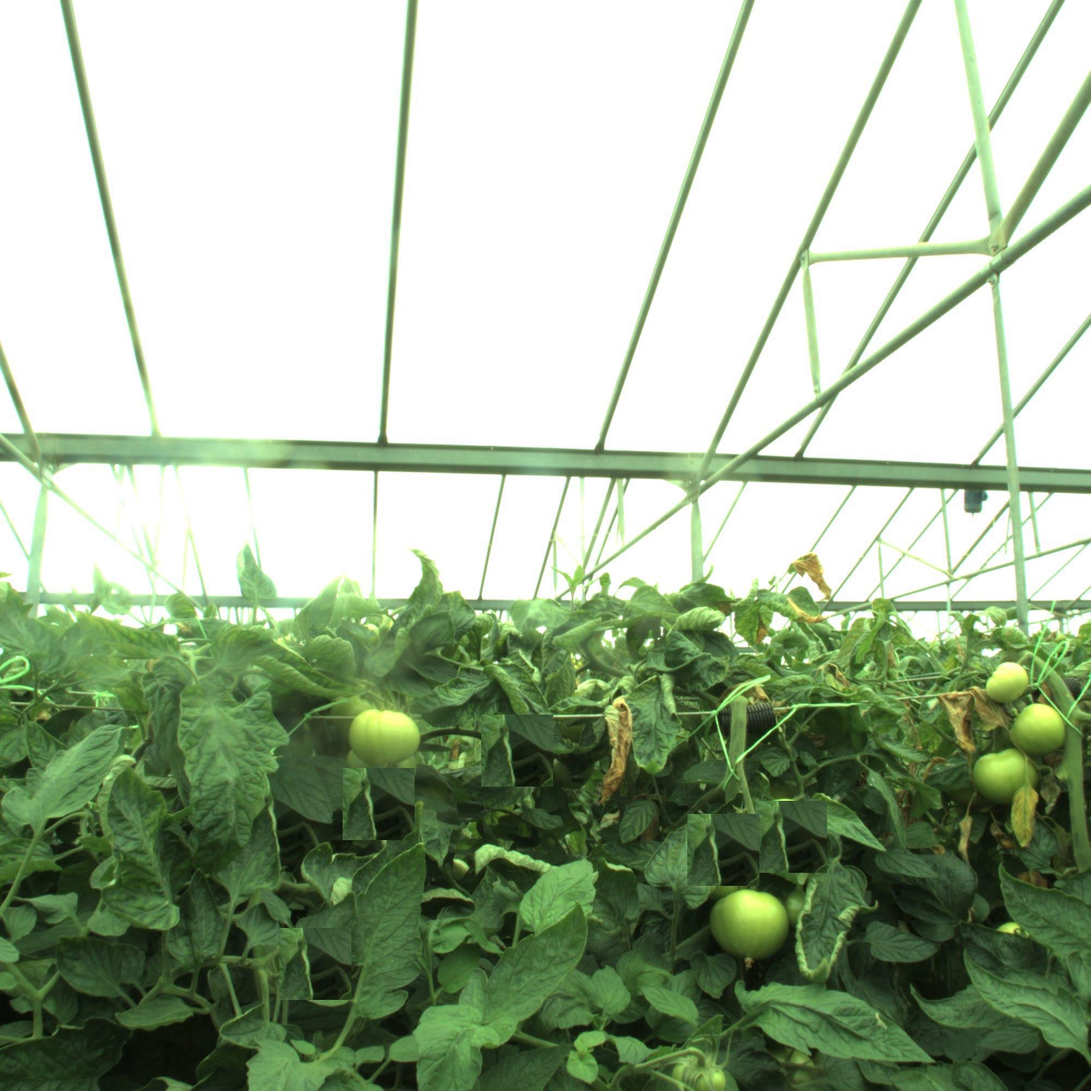unripe: (711, 886, 786, 960), (350, 700, 415, 765), (978, 746, 1033, 800), (1017, 705, 1062, 750), (985, 660, 1029, 705)
